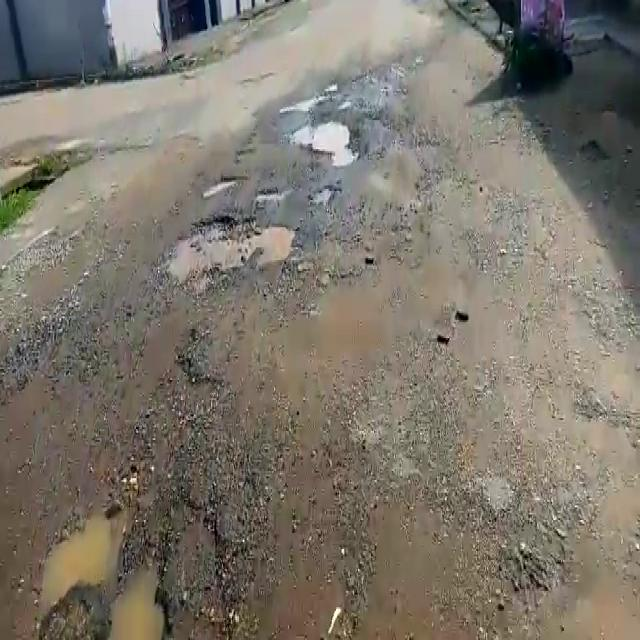Pothole: (38, 498, 170, 640), (156, 216, 295, 288), (286, 116, 358, 161), (200, 170, 246, 198), (255, 186, 287, 200)
